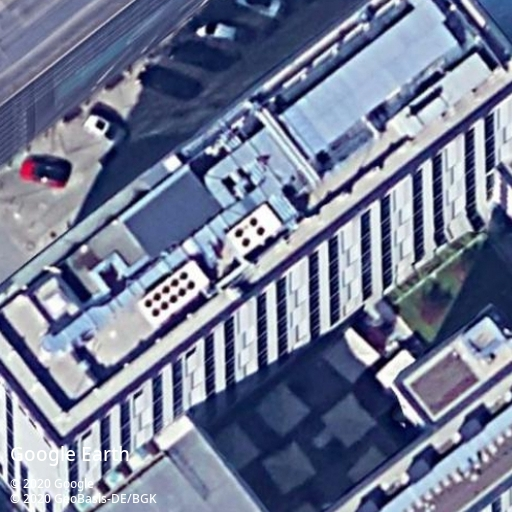Chiller: (137, 260, 210, 327), (225, 203, 282, 255)
